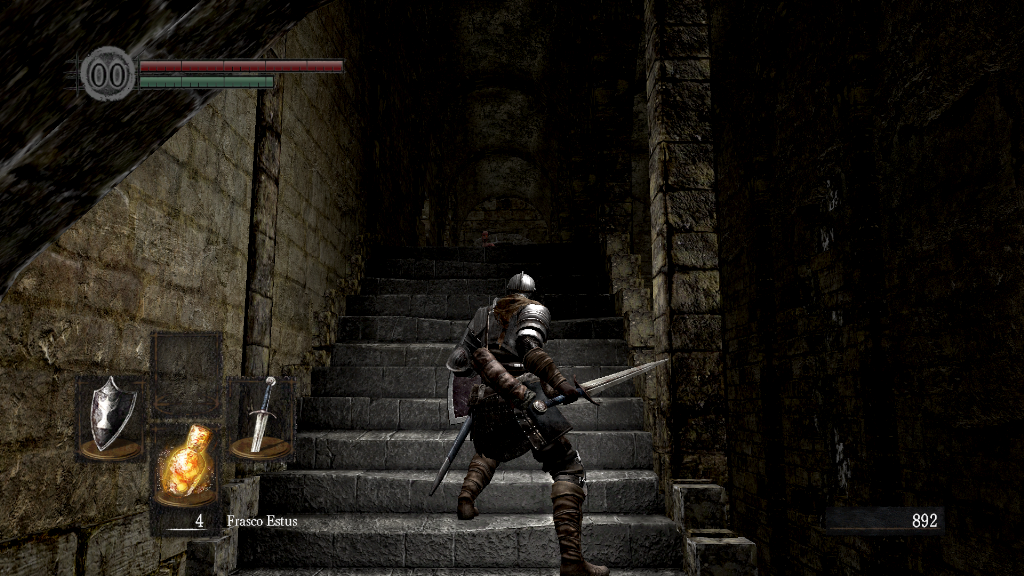health: (138, 58, 343, 71)
hollow: (471, 224, 497, 248)
humanity: (80, 45, 136, 102)
player: (427, 269, 671, 576)
souls: (825, 506, 945, 536)
stamina: (138, 74, 274, 88)
